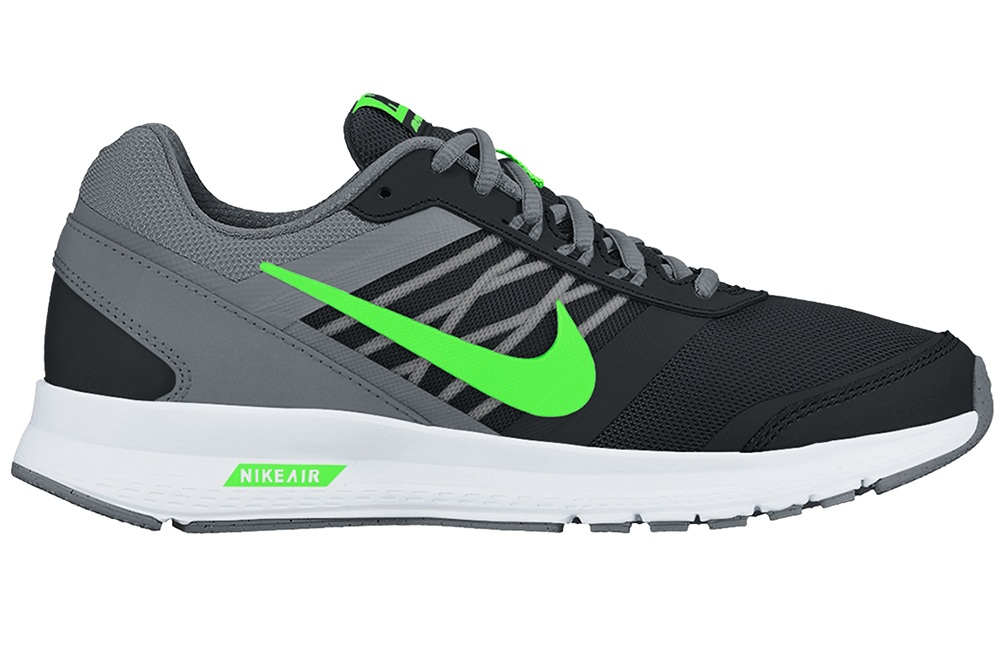Nike: (255, 250, 601, 422)
